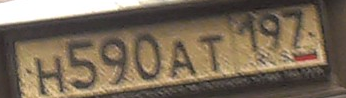character: (65, 38, 99, 89), (130, 33, 161, 82), (100, 35, 128, 85), (34, 55, 66, 94), (167, 36, 197, 76), (198, 34, 226, 74), (281, 6, 306, 50), (260, 10, 281, 56), (237, 11, 259, 54)
